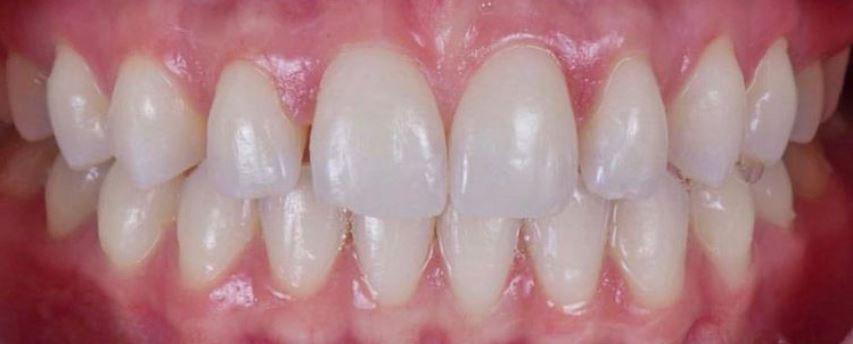1st Molar: (7, 140, 50, 196), (792, 139, 832, 192), (824, 47, 850, 118)
1st Premolar: (95, 158, 176, 268), (48, 37, 108, 169), (694, 171, 756, 280), (748, 32, 797, 168)
2nd Premolar: (46, 153, 94, 240), (7, 50, 47, 142), (795, 54, 826, 140), (753, 160, 795, 223)
Canine: (108, 47, 208, 187), (670, 30, 746, 188), (614, 171, 692, 314), (176, 158, 258, 293)
Central Incisor: (312, 42, 447, 221), (448, 40, 578, 219), (350, 203, 439, 318), (437, 206, 523, 317)
Lateral Incisor: (580, 49, 670, 202), (209, 57, 304, 201), (260, 160, 351, 298), (522, 184, 611, 321)
